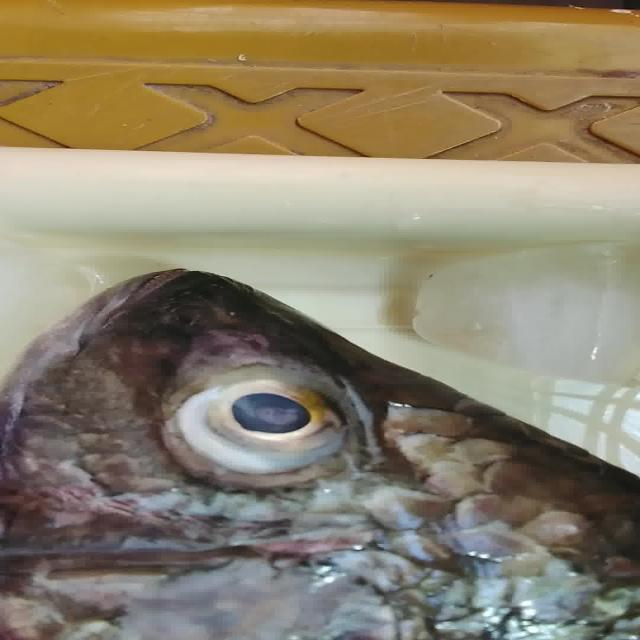Fresh: (174, 365, 411, 499)
